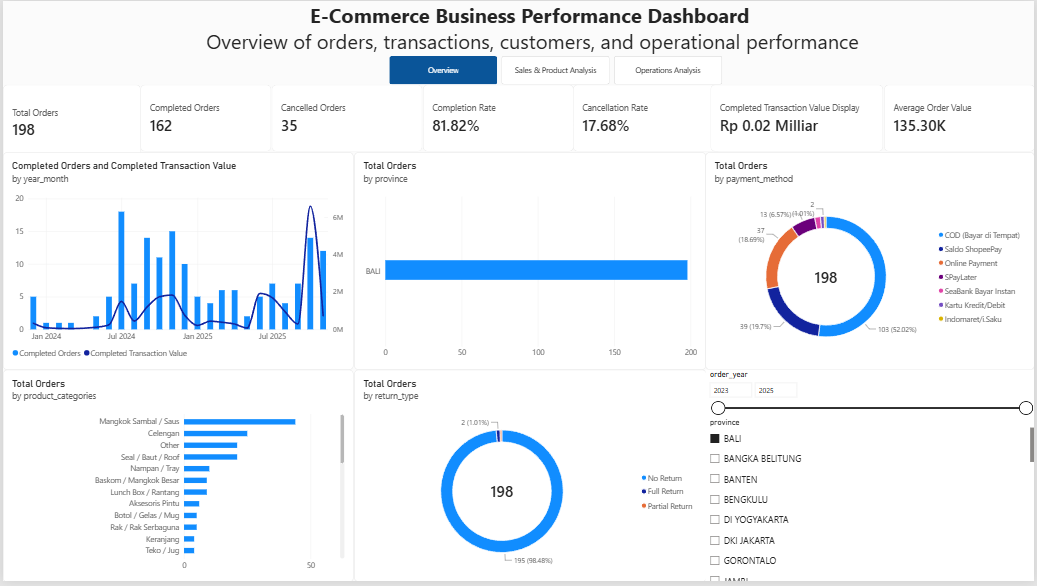

What the dashboard file says about the page in this screenshot:
{"tool":"powerbi","page":{"name":"Overview","canvas":[1920,1080],"ordinal":0},"visuals":[{"type":"cardVisual","fields":{"Data":["cleaned_ecommerce_data.Total Orders"]},"box":[0,156.1,256.1,141.5],"z":0},{"type":"cardVisual","fields":{"Data":["cleaned_ecommerce_data.Completed Orders"]},"box":[256.1,156.1,243.9,124.4],"z":1000},{"type":"cardVisual","fields":{"Data":["cleaned_ecommerce_data.Cancelled Orders"]},"box":[500,156.1,280.5,124.4],"z":2000},{"type":"cardVisual","fields":{"Data":["cleaned_ecommerce_data.Completion Rate"]},"box":[780.5,156.1,280.5,124.4],"z":3000},{"type":"cardVisual","fields":{"Data":["cleaned_ecommerce_data.Cancellation Rate"]},"box":[1061,156.1,278,124.4],"z":4000},{"type":"cardVisual","fields":{"Data":["cleaned_ecommerce_data.Completed Transaction Value Display"]},"box":[1317.1,156.1,322,124.4],"z":5000},{"type":"cardVisual","fields":{"Data":["cleaned_ecommerce_data.Average Order Value"]},"box":[1639,156.1,280.5,124.4],"z":6000},{"type":"lineClusteredColumnComboChart","fields":{"Category":["cleaned_ecommerce_data.year_month"],"Y":["cleaned_ecommerce_data.Completed Orders"],"Y2":["cleaned_ecommerce_data.Completed Transaction Value"]},"box":[0,281,652.4,404.8],"z":7000},{"type":"clusteredBarChart","fields":{"Category":["cleaned_ecommerce_data.province"],"Y":["cleaned_ecommerce_data.Total Orders"]},"box":[652.4,281,654.8,404.8],"z":8000},{"type":"donutChart","fields":{"Category":["cleaned_ecommerce_data.payment_method"],"Y":["cleaned_ecommerce_data.Total Orders"]},"box":[1307.1,281,611.9,404.8],"z":9000},{"type":"clusteredBarChart","fields":{"Category":["cleaned_ecommerce_data.product_categories"],"Y":["cleaned_ecommerce_data.Total Orders"]},"box":[0,685.4,652.4,395.2],"z":10000},{"type":"donutChart","fields":{"Category":["cleaned_ecommerce_data.return_type"],"Y":["cleaned_ecommerce_data.Total Orders"]},"box":[653.5,686,655,394],"z":11000},{"type":"slicer","fields":{"Values":["cleaned_ecommerce_data.order_year"]},"box":[1307.3,685.4,612.2,395.1],"z":12000},{"type":"slicer","fields":{"Values":["cleaned_ecommerce_data.province"]},"box":[1307.1,773.8,611.9,307.1],"z":13000},{"type":"textbox","box":[361,0,1239,226.8],"z":14000},{"type":"pageNavigator","box":[717.5,102.5,621.2,53.8],"z":15000}]}

Visuals, with their boxes in screenshot pixels (x1, y1, x2, y2), scaled from the page's 1920x1080 canvas onto the 1037x586 screenshot:
cardVisual - cleaned_ecommerce_data.Total Orders: (left=0, top=85, right=138, bottom=161)
cardVisual - cleaned_ecommerce_data.Completed Orders: (left=138, top=85, right=270, bottom=152)
cardVisual - cleaned_ecommerce_data.Cancelled Orders: (left=270, top=85, right=422, bottom=152)
cardVisual - cleaned_ecommerce_data.Completion Rate: (left=422, top=85, right=573, bottom=152)
cardVisual - cleaned_ecommerce_data.Cancellation Rate: (left=573, top=85, right=723, bottom=152)
cardVisual - cleaned_ecommerce_data.Completed Transaction Value Display: (left=711, top=85, right=885, bottom=152)
cardVisual - cleaned_ecommerce_data.Average Order Value: (left=885, top=85, right=1036, bottom=152)
lineClusteredColumnComboChart - cleaned_ecommerce_data.year_month x cleaned_ecommerce_data.Completed Orders: (left=0, top=152, right=352, bottom=372)
clusteredBarChart - cleaned_ecommerce_data.province x cleaned_ecommerce_data.Total Orders: (left=352, top=152, right=706, bottom=372)
donutChart - cleaned_ecommerce_data.payment_method x cleaned_ecommerce_data.Total Orders: (left=706, top=152, right=1036, bottom=372)
clusteredBarChart - cleaned_ecommerce_data.product_categories x cleaned_ecommerce_data.Total Orders: (left=0, top=372, right=352, bottom=585)
donutChart - cleaned_ecommerce_data.return_type x cleaned_ecommerce_data.Total Orders: (left=353, top=372, right=707, bottom=585)
slicer - cleaned_ecommerce_data.order_year: (left=706, top=372, right=1036, bottom=585)
slicer - cleaned_ecommerce_data.province: (left=706, top=420, right=1036, bottom=585)
textbox: (left=195, top=0, right=864, bottom=123)
pageNavigator: (left=388, top=56, right=723, bottom=85)
